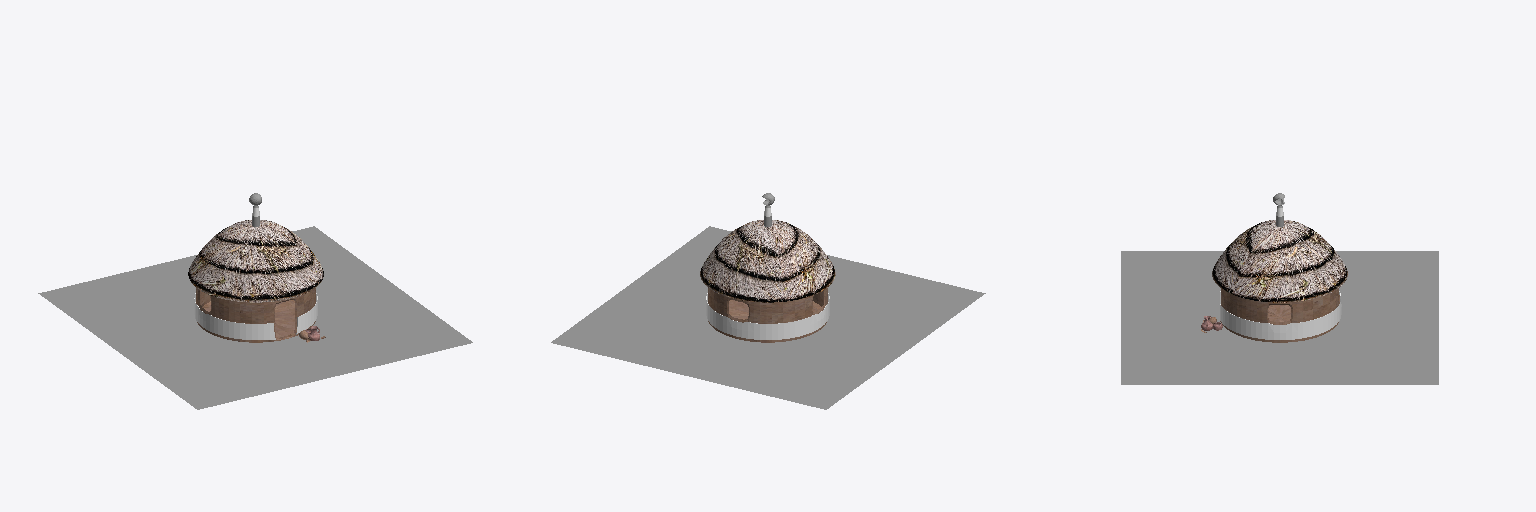
3 renders of one model, left to right at view 1: azimuth 30°, elevation 25°; view 2: azimuth 150°, elevation 25°; view 3: azimuth 270°, elevation 25°, orthographic.
Parts seen in each view (by area): view 1: Cube, Circle, Circle.003; view 2: Cube, Circle, Circle.003; view 3: Cube, Circle, Circle.003.
Boxes of the visible parts, x1=… form: Cube: x1=38, y1=226, x2=472, y2=409; Circle: x1=188, y1=220, x2=323, y2=342; Circle.003: x1=194, y1=208, x2=317, y2=339; Cube: x1=551, y1=226, x2=985, y2=409; Circle: x1=700, y1=220, x2=835, y2=342; Circle.003: x1=706, y1=208, x2=829, y2=339; Cube: x1=1121, y1=251, x2=1438, y2=384; Circle: x1=1212, y1=220, x2=1347, y2=342; Circle.003: x1=1220, y1=208, x2=1341, y2=339.
Size of the model in its own units: 16.08 by 6.94 by 16.08.
Materials: 6 (3 with a texture image).